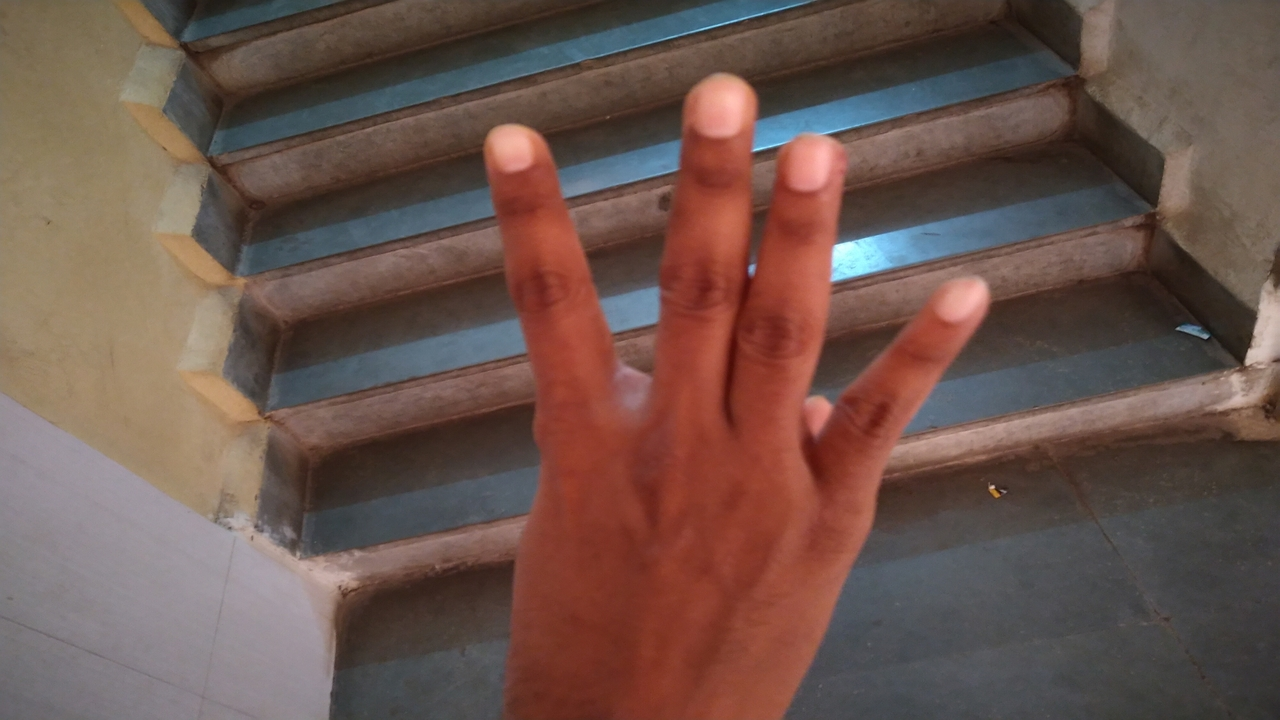fingertip: (770, 124, 856, 198), (680, 68, 760, 142), (474, 116, 554, 184), (924, 266, 1004, 332)
